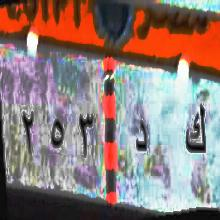2: (17, 103, 39, 164)
3: (74, 106, 94, 162)
5: (44, 111, 68, 160)
daal: (126, 112, 153, 158)
kaaf: (183, 98, 211, 174)
